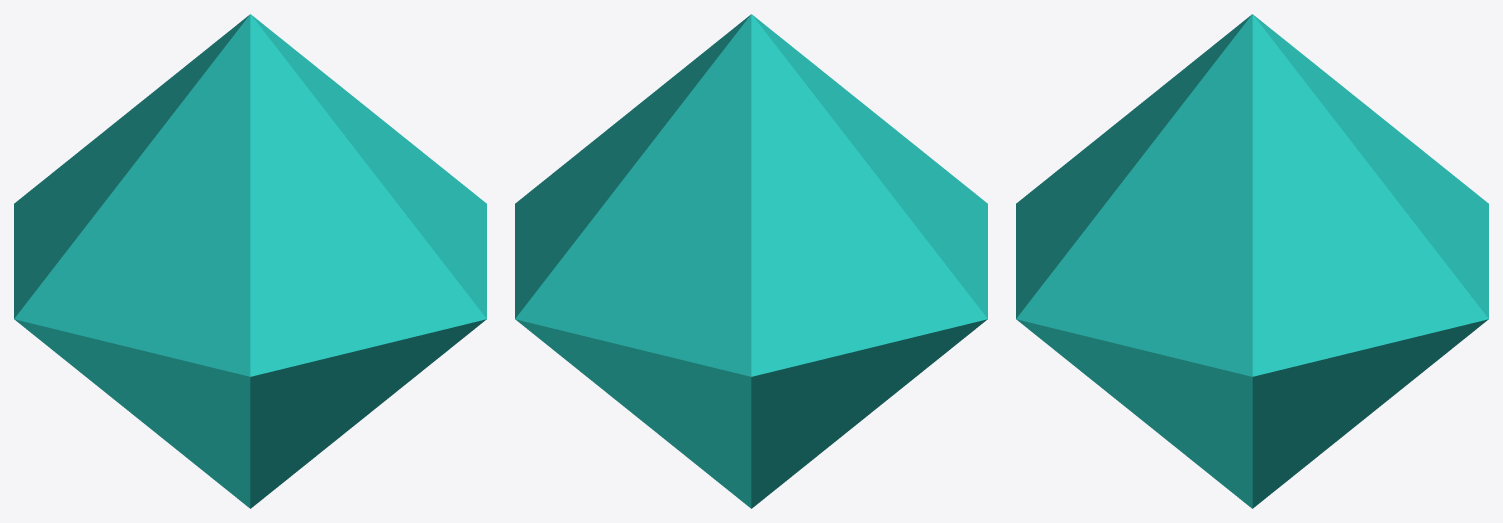
File: cave_wisp.glb
3 renders of one model, left to right at view 1: azimuth 30°, elevation 25°; view 2: azimuth 150°, elevation 25°; view 3: azimuth 270°, elevation 25°, orthographic.
Visible parts, largest first — view 1: cave_wisp; view 2: cave_wisp; view 3: cave_wisp.
Part boxes in pixels (x1,y1,x2,y2): cave_wisp: (14,14,486,508); cave_wisp: (515,14,987,508); cave_wisp: (1016,14,1488,508).
Bounding box in the file's own units: 0.5 × 0.5 × 0.433.
1 material, 1 textured.
